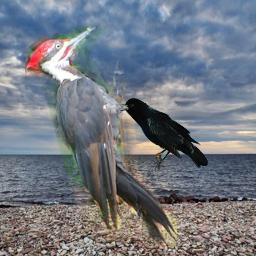Crow: (116, 98, 208, 171)
Woodpecker: (25, 26, 177, 248)
